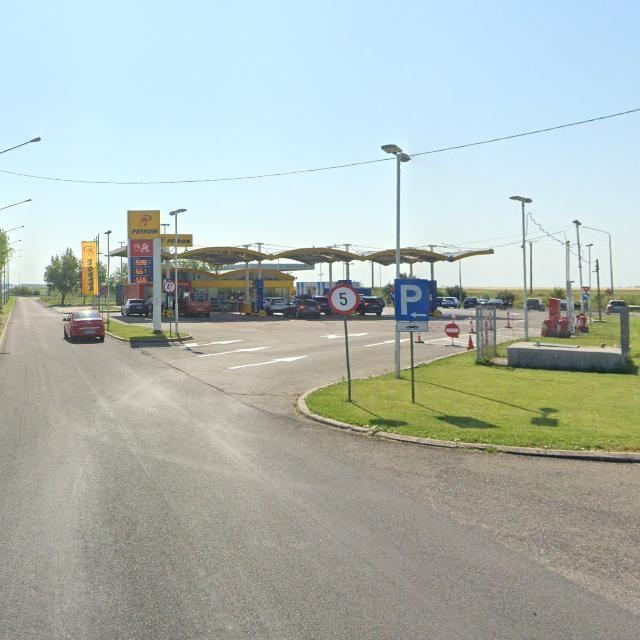prio_give_way: (582, 287, 590, 293)
